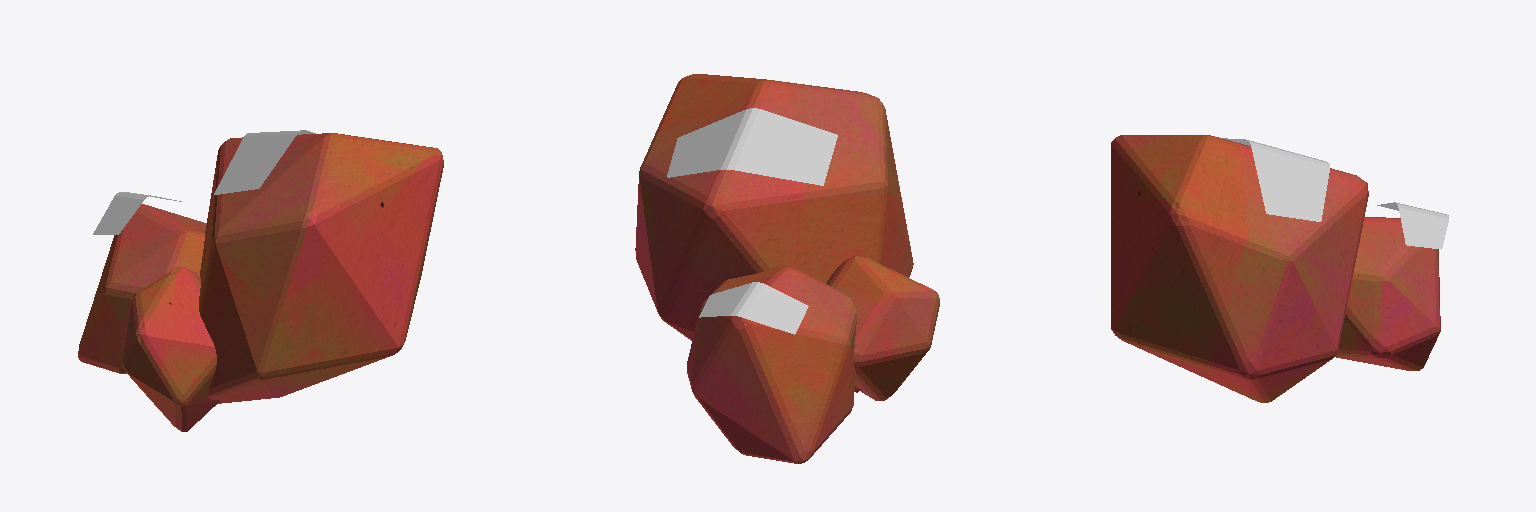
The picture shows the model from 3 angles: view 1: azimuth 30°, elevation 25°; view 2: azimuth 150°, elevation 25°; view 3: azimuth 270°, elevation 25°; orthographic projection.
Parts seen in each view (by area): view 1: TEMPLE_DECOR_ROCKS_001; view 2: TEMPLE_DECOR_ROCKS_001; view 3: TEMPLE_DECOR_ROCKS_001.
Boxes of the visible parts, <box> form: TEMPLE_DECOR_ROCKS_001: <box>78,130,443,431</box>; TEMPLE_DECOR_ROCKS_001: <box>635,74,939,463</box>; TEMPLE_DECOR_ROCKS_001: <box>1111,135,1448,402</box>.
Bounding box in the file's own units: 0.7014 × 0.6336 × 0.7001.
Materials: 2 (1 with a texture image).